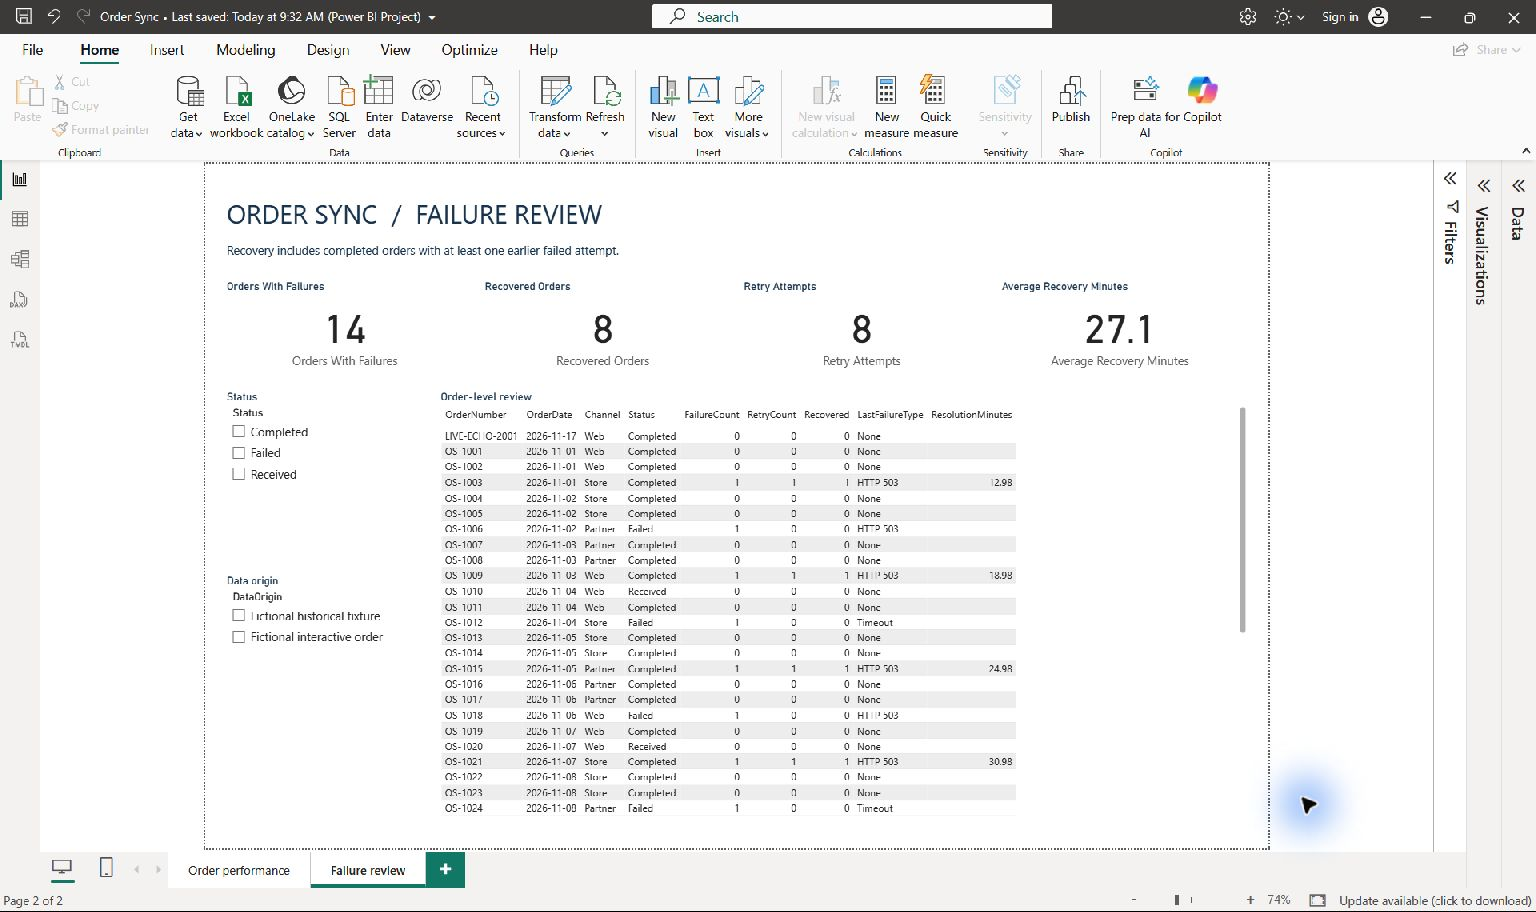

What the dashboard file says about the page in this screenshot:
{"tool":"powerbi","page":{"name":"Failure review","canvas":[1440,900],"ordinal":1},"visuals":[{"type":"textbox","box":[24,12,1380,62],"z":0},{"type":"textbox","box":[24,74,1380,45],"z":0},{"type":"card","title":"Orders With Failures","fields":{"Values":["Orders.Orders With Failures"]},"box":[24,130,330,125],"z":0},{"type":"card","title":"Recovered Orders","fields":{"Values":["Orders.Recovered Orders"]},"box":[374,130,330,125],"z":0},{"type":"card","title":"Retry Attempts","fields":{"Values":["Orders.Retry Attempts"]},"box":[724,130,330,125],"z":0},{"type":"card","title":"Average Recovery Minutes","fields":{"Values":["Orders.Average Recovery Minutes"]},"box":[1074,130,330,125],"z":0},{"type":"slicer","title":"Status","fields":{"Values":["Orders.Status"]},"box":[24,280,270,230],"z":0},{"type":"tableEx","title":"Order-level review","fields":{"Values":["Orders.OrderNumber","Orders.OrderDate","Orders.Channel","Orders.Status","Orders.FailureCount","Orders.RetryCount","Orders.Recovered","Orders.LastFailureType","Orders.ResolutionMinutes"]},"box":[314,280,1100,580],"z":0},{"type":"slicer","title":"Data origin","fields":{"Values":["Orders.DataOrigin"]},"box":[24,530,270,230],"z":0}]}

Visuals, with their boxes on the page's 1440x900 design canvas (x1, y1, x2, y2). These are canvas units, not pixel positions in the 1536x912 screenshot, which may show the page scaled, cropped or inside an application window:
textbox: <region>24, 12, 1404, 74</region>
textbox: <region>24, 74, 1404, 119</region>
"Orders With Failures" card: <region>24, 130, 354, 255</region>
"Recovered Orders" card: <region>374, 130, 704, 255</region>
"Retry Attempts" card: <region>724, 130, 1054, 255</region>
"Average Recovery Minutes" card: <region>1074, 130, 1404, 255</region>
"Status" slicer: <region>24, 280, 294, 510</region>
"Order-level review" tableEx: <region>314, 280, 1414, 860</region>
"Data origin" slicer: <region>24, 530, 294, 760</region>
